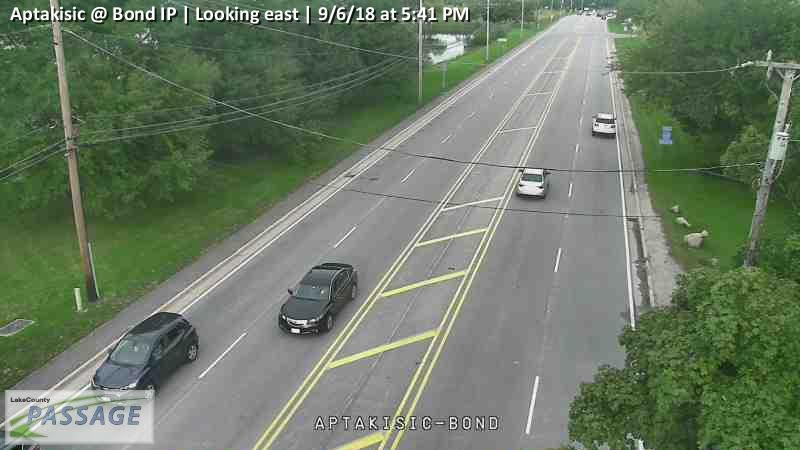SUV: (91, 312, 199, 398)
Sedan: (278, 263, 359, 336), (516, 167, 552, 198), (591, 113, 617, 135)
